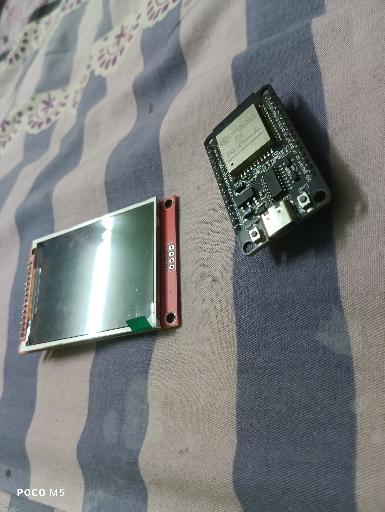Display: (18, 195, 181, 354)
Esp32: (205, 83, 333, 257)
